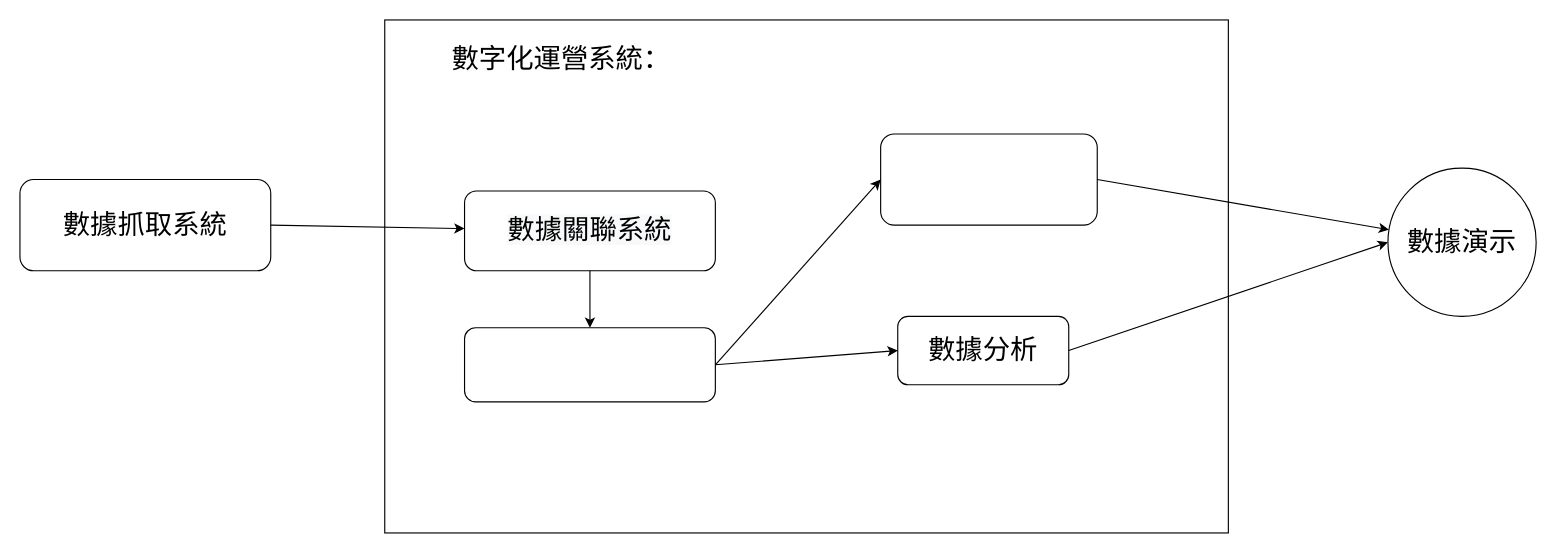
The diagram is 1556 pixels wide and 553 high, and some of its shapes have lost their labels. Here are the shapes that lost their labels. From the top down, the box of each, then its label:
(880, 133, 1097, 225): 數據加密系統
(463, 327, 715, 402): 數據存儲系統
